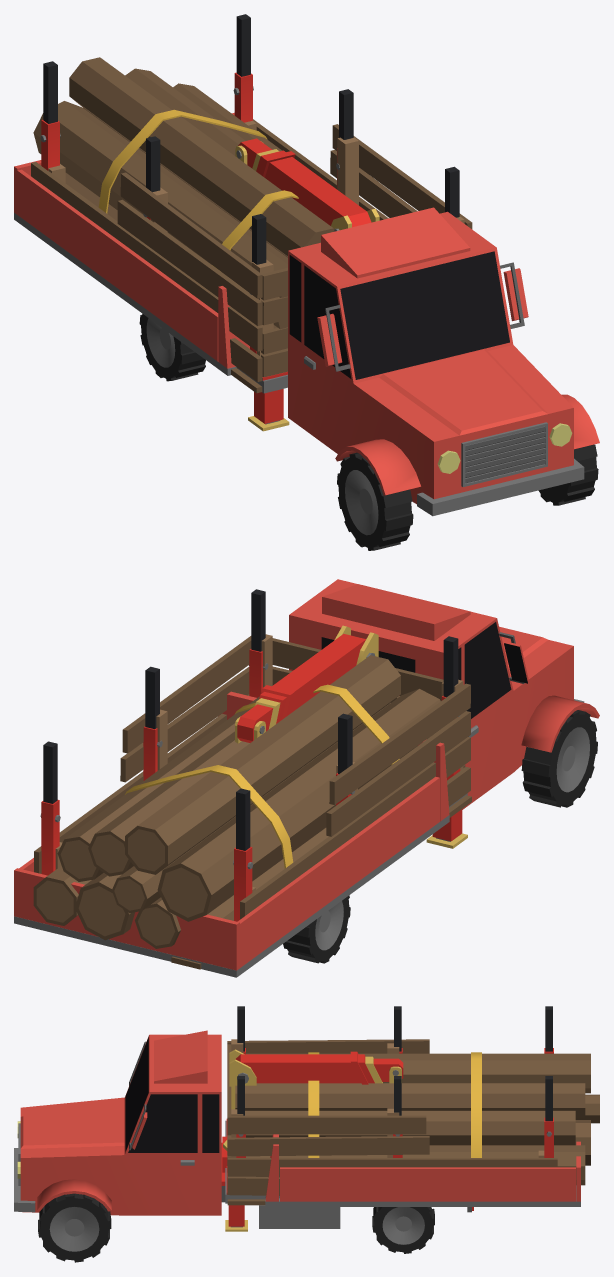
Rendered from Truck_02.fbx.
3 views of the same model, one above another, from view 1: azimuth 30°, elevation 25°; view 2: azimuth 150°, elevation 25°; view 3: azimuth 270°, elevation 25° (orthographic). The views are drawn at different scales.
Visible parts, largest first — view 1: Truck_02, Truck_02_Wood, Truck_02_Wooden_Bed, Truck_02_Crane, Truck_02_Hindcarriage_Wood, Truck_02_Crane_Arrow_Part_01, Truck_02_Wood_Belts; view 2: Truck_02_Wood, Truck_02, Truck_02_Wooden_Bed, Truck_02_Crane, Truck_02_Hindcarriage_Wood, Truck_02_Crane_Arrow_Part_01, Truck_02_Wood_Belts, Truck_02_Crane_Arrow_Part_03, Truck_02_Crane_Arrow_Base; view 3: Truck_02, Truck_02_Wood, Truck_02_Wooden_Bed, Truck_02_Crane, Truck_02_Crane_Arrow_Part_01, Truck_02_Hindcarriage_Wood, Truck_02_Wood_Belts, Truck_02_Crane_Arrow_Base, Truck_02_Crane_Arrow_Part_03.
Part boxes in pixels (box(x1,y1,x2,y2)): Truck_02: box(139, 207, 599, 550); Truck_02_Wood: box(33, 57, 334, 329); Truck_02_Wooden_Bed: box(31, 119, 472, 393); Truck_02_Crane: box(14, 112, 287, 423); Truck_02_Hindcarriage_Wood: box(40, 14, 459, 393); Truck_02_Crane_Arrow_Part_01: box(256, 150, 371, 227); Truck_02_Wood_Belts: box(98, 109, 298, 270); Truck_02_Wood: box(33, 655, 440, 948); Truck_02: box(283, 579, 599, 963); Truck_02_Wooden_Bed: box(34, 634, 471, 969); Truck_02_Crane: box(14, 691, 462, 977); Truck_02_Hindcarriage_Wood: box(40, 589, 467, 921); Truck_02_Crane_Arrow_Part_01: box(259, 634, 365, 723); Truck_02_Wood_Belts: box(125, 684, 399, 868); Truck_02_Crane_Arrow_Part_03: box(237, 704, 273, 742); Truck_02_Crane_Arrow_Base: box(334, 625, 378, 665); Truck_02: box(14, 1030, 473, 1262); Truck_02_Wood: box(235, 1053, 599, 1185); Truck_02_Wooden_Bed: box(227, 1039, 557, 1205); Truck_02_Crane: box(221, 1119, 580, 1226); Truck_02_Crane_Arrow_Part_01: box(235, 1051, 374, 1084); Truck_02_Hindcarriage_Wood: box(225, 1006, 553, 1203); Truck_02_Wood_Belts: box(308, 1052, 481, 1157); Truck_02_Crane_Arrow_Base: box(223, 1049, 256, 1150); Truck_02_Crane_Arrow_Part_03: box(373, 1058, 403, 1081).
Bounding box in the file's own units: 3.24 × 3.41 × 9.95.
